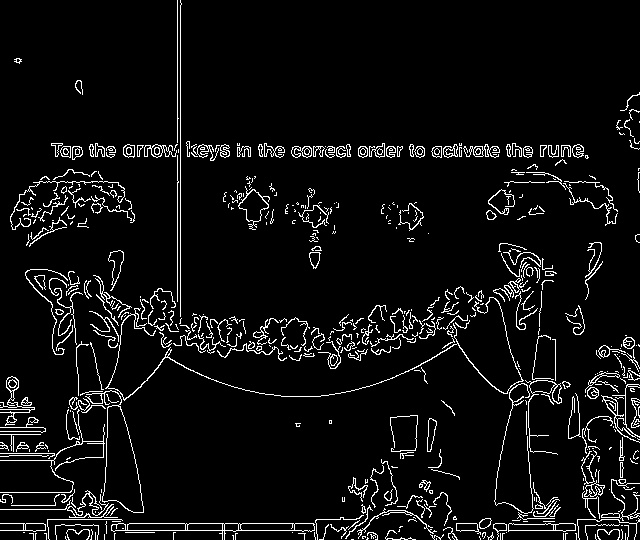left: (479, 182, 522, 224)
right: (295, 200, 335, 235), (393, 200, 431, 232)
up: (232, 186, 276, 229)
